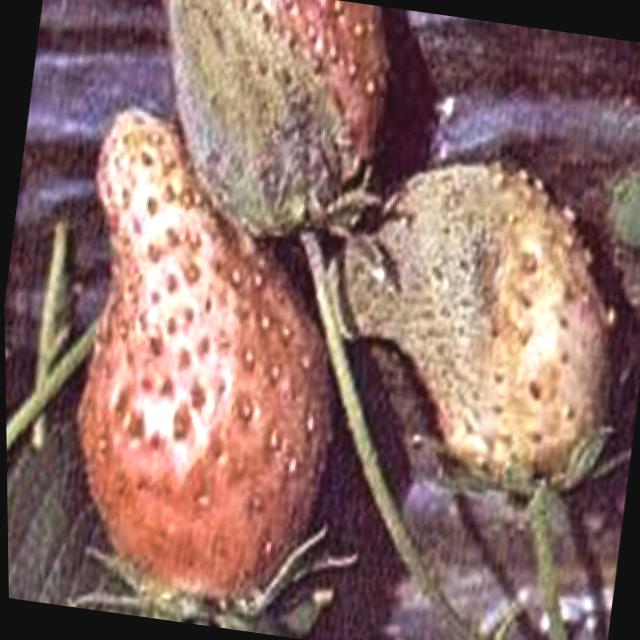Gray Mold: (343, 150, 615, 496), (164, 0, 386, 237)
